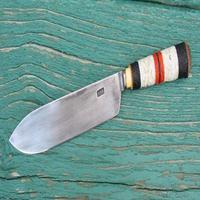knife: (6, 37, 195, 159)
